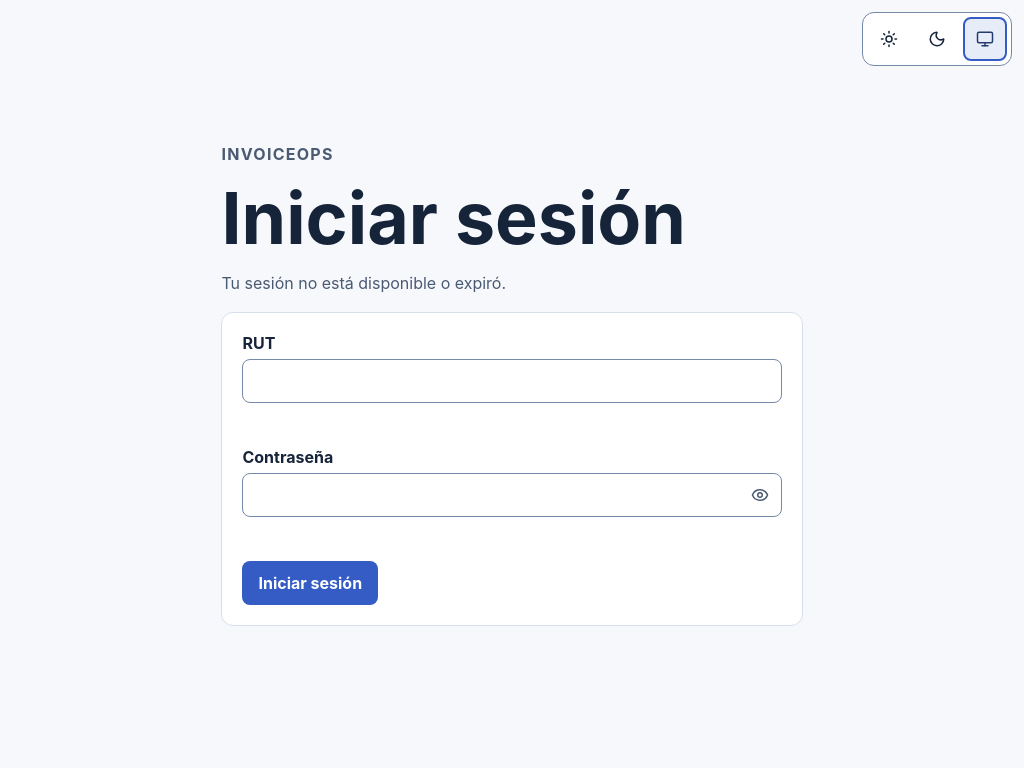
Scenario: onboarding and anonymous access › shows the login on any URL and returns to that URL after signing in
The width and height of the screenshot is (1024, 768).
Check: the heading "Iniciar sesión" is shown, box [221,175,686,261]
Type "123456785" into the field labelled "RUT" at (512, 381), box [242,359,782,403]
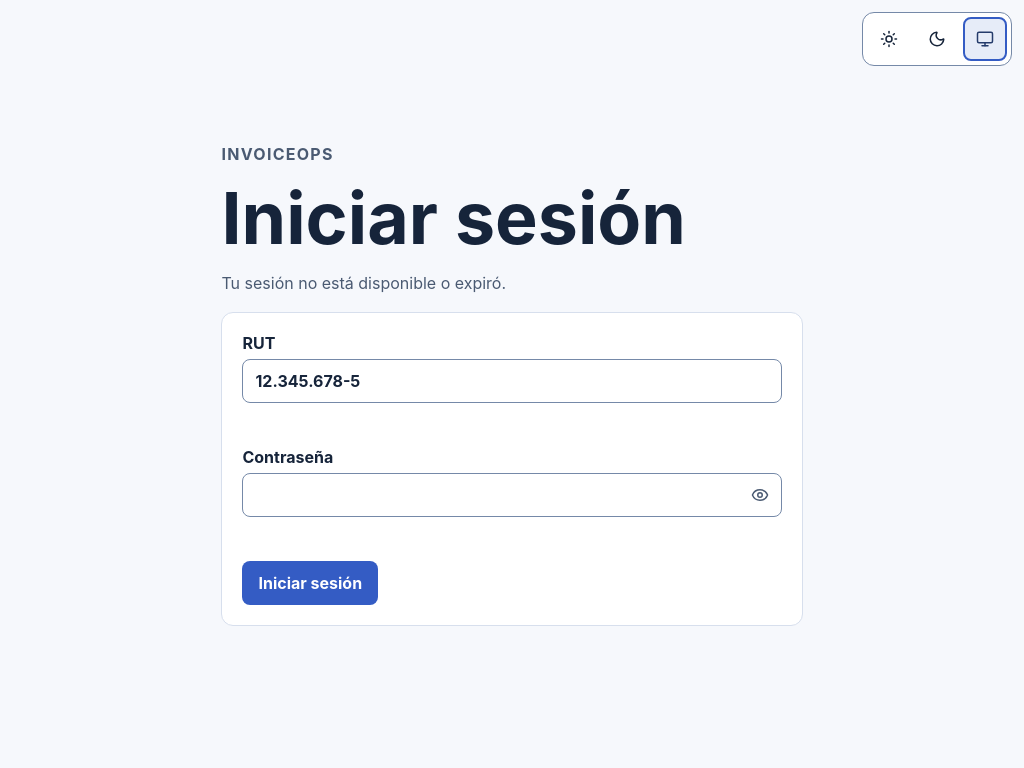
Type "test-password-123" into the password field labelled "Contraseña" at (512, 495), box [242,473,782,517]
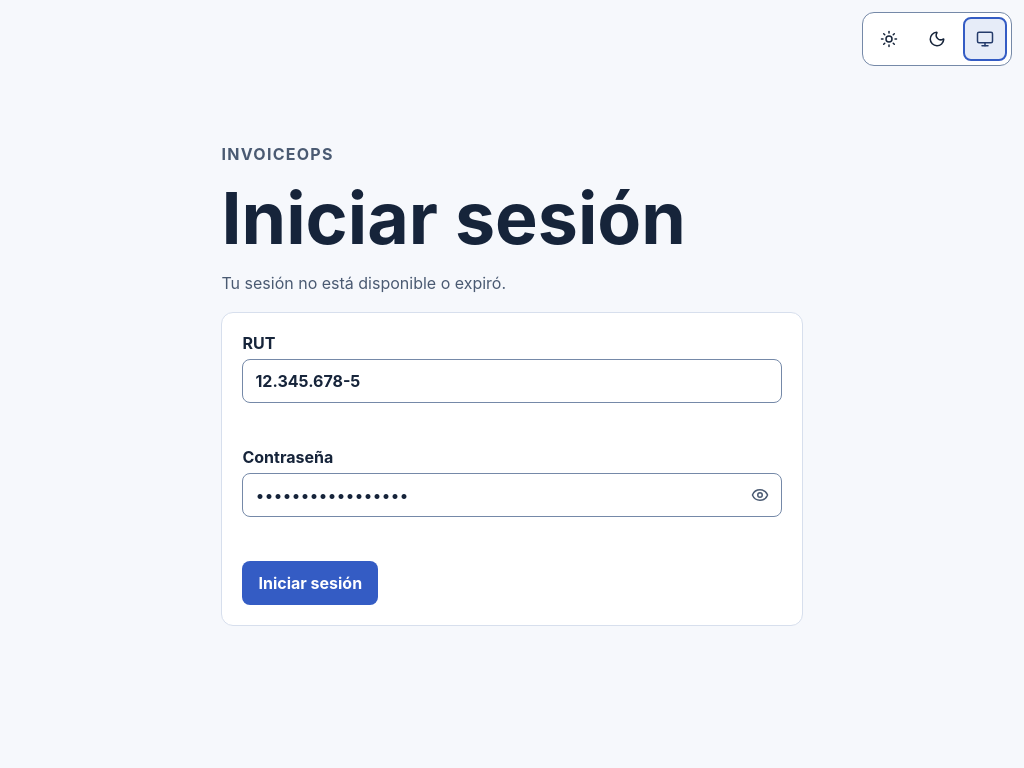
Click the button "Iniciar sesión" at (310, 583), box [242,561,378,605]
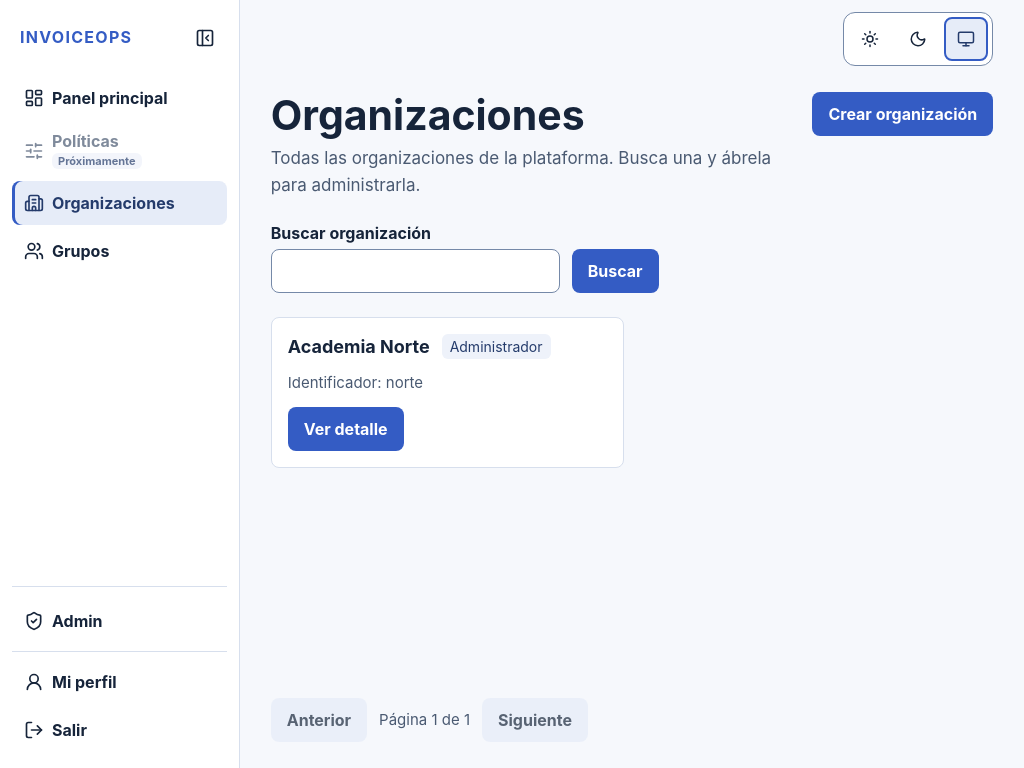
Check: the heading "Organizaciones" is shown, box [271,90,585,140]
